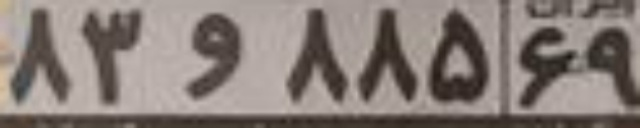3: (80, 6, 142, 103)
5: (428, 9, 488, 102)
6: (513, 26, 574, 108)
8: (282, 7, 348, 104), (11, 8, 74, 106), (355, 7, 416, 104)
9: (580, 26, 638, 105)
vav: (177, 11, 241, 101)
